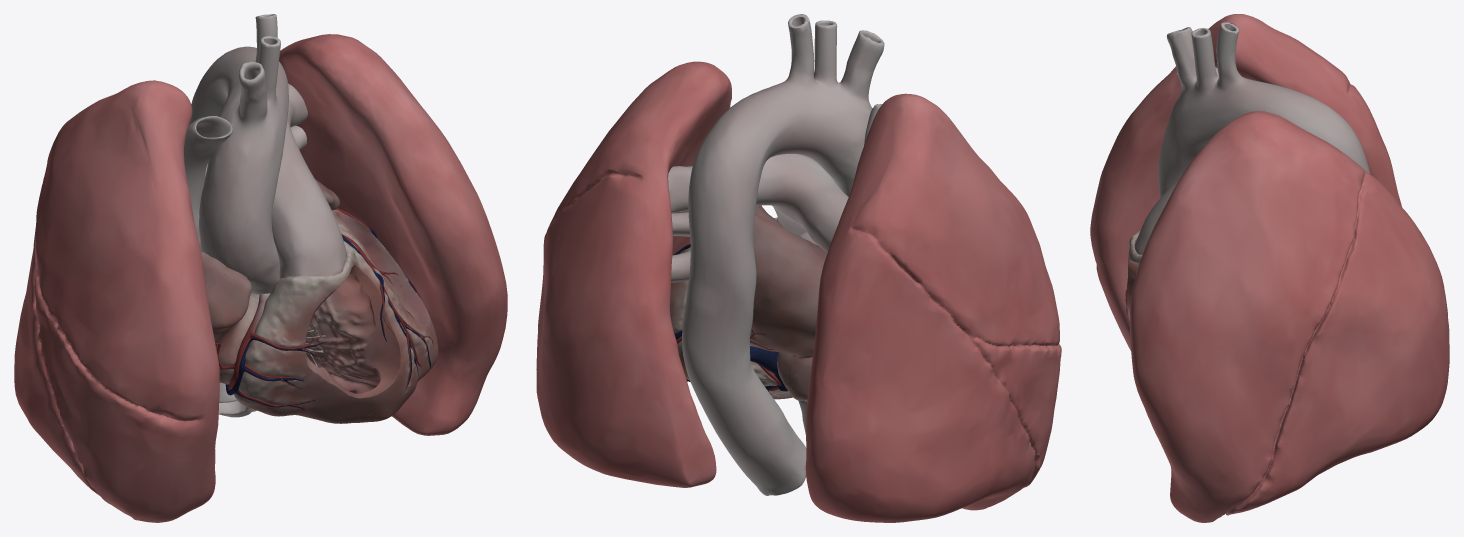
Rendered from heartAndLungs.gltf.
The picture shows the model from 3 angles, left to right: view 1: azimuth 30°, elevation 25°; view 2: azimuth 150°, elevation 25°; view 3: azimuth 270°, elevation 25°; orthographic projection. The views are drawn at different scales.
Parts seen in each view (by area): view 1: linkerlong3, normaal6, normaal5, normaal25; view 2: linkerlong3, normaal5, normaal6, normaal25; view 3: linkerlong3, normaal5, normaal6.
Boxes of the visible parts, x1,y1,x2,y2 form: linkerlong3: (14,34,507,522); normaal6: (201,125,438,423); normaal5: (184,14,346,417); normaal25: (215,207,433,411); linkerlong3: (536,61,1061,522); normaal5: (668,14,884,495); normaal6: (670,205,827,400); normaal25: (673,243,787,394); linkerlong3: (1090,14,1449,522); normaal5: (1134,22,1369,254); normaal6: (1127,230,1157,436).
Bounding box in the file's own units: 1.41 × 1.39 × 1.06.
